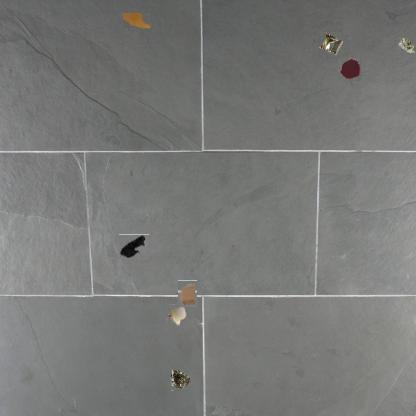dirty: (120, 234, 150, 259), (318, 33, 342, 57), (177, 280, 197, 307), (166, 304, 188, 326), (170, 370, 190, 390), (396, 37, 416, 55)
liquid: (339, 58, 361, 81), (122, 12, 150, 29)
